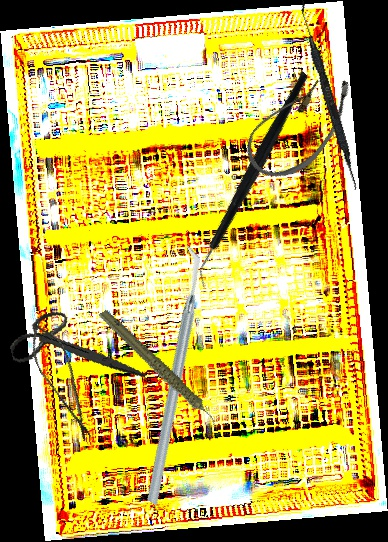Cannula: (235, 54, 364, 194)
Chopper: (55, 244, 288, 507), (140, 70, 368, 290)
Handpiece: (97, 291, 219, 448)
Iris Scissors: (4, 294, 146, 408)
Micro Scissor: (20, 316, 104, 446)
Spatula Surgical: (292, 0, 365, 191)
